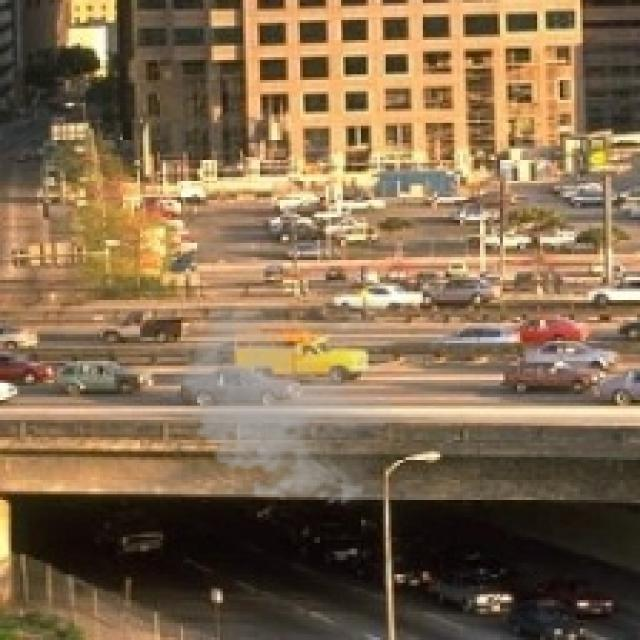smoke: (166, 300, 391, 511)
